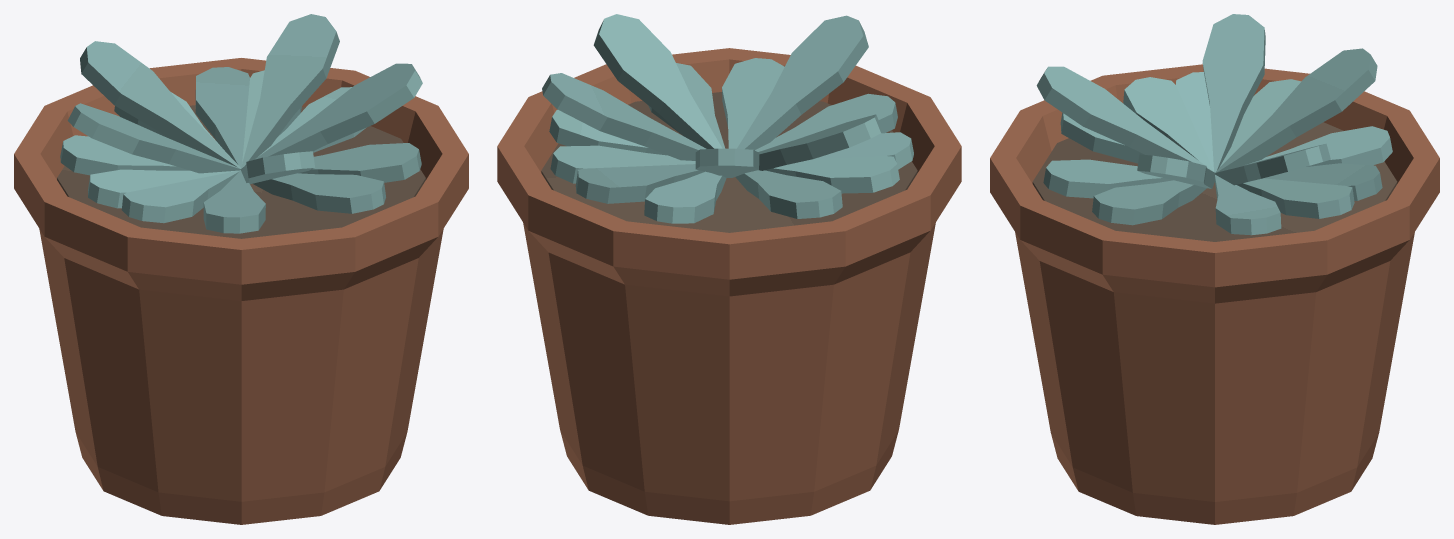
Rendered from rosette.glb.
The picture shows the model from 3 angles, left to right: view 1: azimuth 30°, elevation 25°; view 2: azimuth 150°, elevation 25°; view 3: azimuth 270°, elevation 25°; orthographic projection. The views are drawn at different scales.
Parts seen in each view (by area): view 1: rosette/review-terra-vessel, rosette/review-rooted-soil, rosette/leaf-014, rosette/leaf-012, rosette/leaf-011, rosette/leaf-015, rosette/leaf-009, rosette/leaf-008, rosette/leaf-010, rosette/leaf-003, rosette/leaf-005, rosette/leaf-007 (+5 smaller); view 2: rosette/review-terra-vessel, rosette/review-rooted-soil, rosette/leaf-013, rosette/leaf-011, rosette/leaf-014, rosette/leaf-007, rosette/leaf-009, rosette/leaf-008, rosette/leaf-002, rosette/leaf-004, rosette/leaf-015, rosette/leaf-005 (+5 smaller); view 3: rosette/review-terra-vessel, rosette/review-rooted-soil, rosette/leaf-012, rosette/leaf-015, rosette/leaf-013, rosette/leaf-010, rosette/leaf-003, rosette/leaf-008, rosette/leaf-001, rosette/leaf-006, rosette/leaf-004, rosette/leaf-009 (+5 smaller).
Boxes of the visible parts, <box> form: rosette/review-terra-vessel: <box>14,58,468,524</box>; rosette/review-rooted-soil: <box>57,105,425,238</box>; rosette/leaf-014: <box>241,14,339,168</box>; rosette/leaf-012: <box>80,41,241,168</box>; rosette/leaf-011: <box>254,63,422,159</box>; rosette/leaf-015: <box>67,103,240,173</box>; rosette/leaf-009: <box>195,67,249,167</box>; rosette/leaf-008: <box>253,173,385,213</box>; rosette/leaf-010: <box>121,170,240,223</box>; rosette/leaf-003: <box>298,143,421,182</box>; rosette/leaf-005: <box>203,171,265,233</box>; rosette/leaf-007: <box>60,135,189,175</box>; rosette/review-terra-vessel: <box>497,48,961,524</box>; rosette/review-rooted-soil: <box>541,92,917,232</box>; rosette/leaf-013: <box>737,15,868,150</box>; rosette/leaf-011: <box>593,14,722,148</box>; rosette/leaf-014: <box>542,73,706,160</box>; rosette/leaf-007: <box>735,170,842,218</box>; rosette/leaf-009: <box>575,164,704,203</box>; rosette/leaf-008: <box>722,58,784,148</box>; rosette/leaf-002: <box>765,156,899,193</box>; rosette/leaf-004: <box>644,171,726,223</box>; rosette/leaf-015: <box>758,114,882,170</box>; rosette/leaf-005: <box>755,93,897,151</box>; rosette/review-terra-vessel: <box>990,64,1439,524</box>; rosette/review-rooted-soil: <box>1032,122,1397,241</box>; rosette/leaf-012: <box>1215,48,1377,172</box>; rosette/leaf-015: <box>1202,14,1265,172</box>; rosette/leaf-013: <box>1036,66,1213,171</box>; rosette/leaf-010: <box>1123,77,1213,171</box>; rosette/leaf-003: <box>1092,180,1206,225</box>; rosette/leaf-008: <box>1043,159,1172,198</box>; rosette/leaf-001: <box>1236,178,1354,218</box>; rosette/leaf-006: <box>1215,175,1281,235</box>; rosette/leaf-004: <box>1247,126,1392,166</box>; rosette/leaf-009: <box>1264,163,1382,200</box>.
Bounding box in the file's own units: 0.19 × 0.1731 × 0.19.
Materials: 3 (3 with a texture image).
